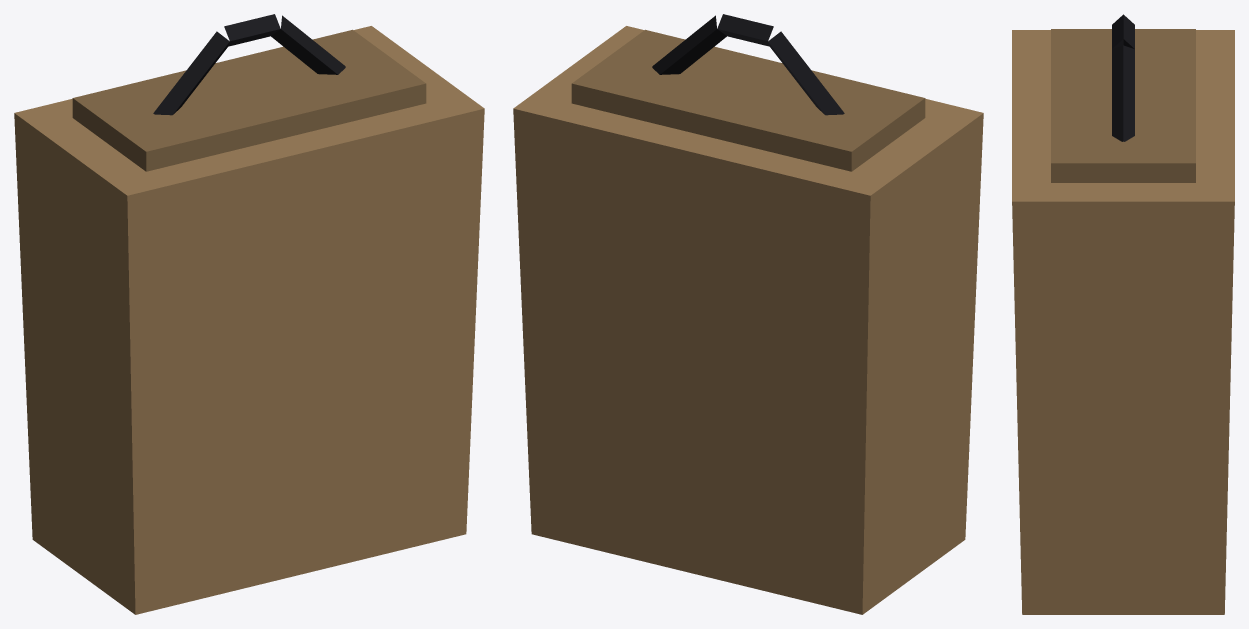
The model's file is shopping_bag.glb.
3 renders of one model, left to right at view 1: azimuth 30°, elevation 25°; view 2: azimuth 150°, elevation 25°; view 3: azimuth 270°, elevation 25°, orthographic.
Parts seen in each view (by area): view 1: shopping_bag; view 2: shopping_bag; view 3: shopping_bag.
Part boxes in pixels (x1,y1,x2,y2): shopping_bag: [14, 14, 484, 614]; shopping_bag: [513, 14, 983, 614]; shopping_bag: [1012, 14, 1234, 614].
Size of the model in its own units: 0.2808 by 0.388 by 0.154.
